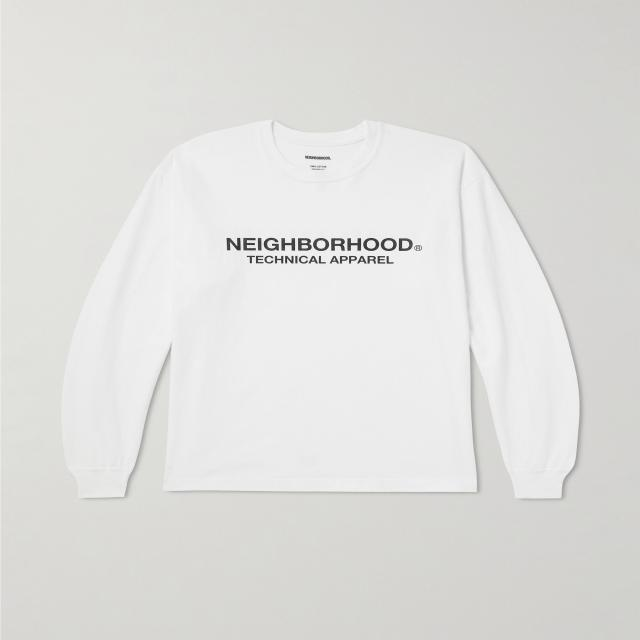tshirt: (60, 116, 583, 500)
